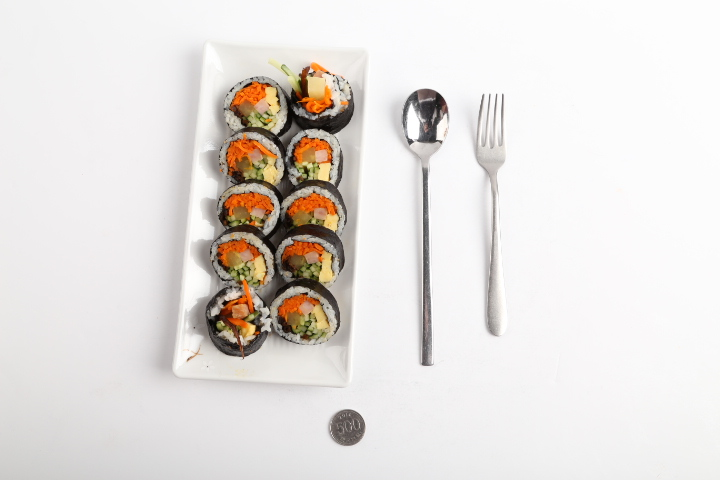dish: (173, 40, 368, 386)
ref_coin: (330, 409, 366, 446)
ref_fork: (475, 93, 506, 173)
ref_spoon: (402, 88, 450, 164)
김밥: (205, 69, 354, 357)
